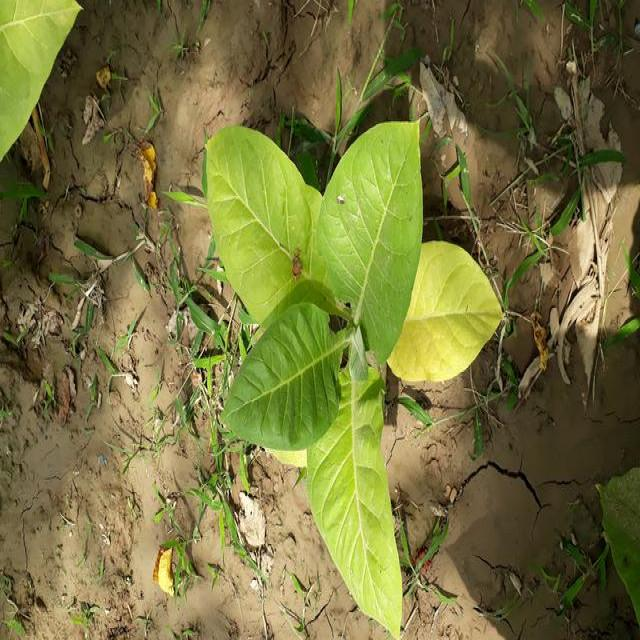crop: (203, 115, 508, 640)
